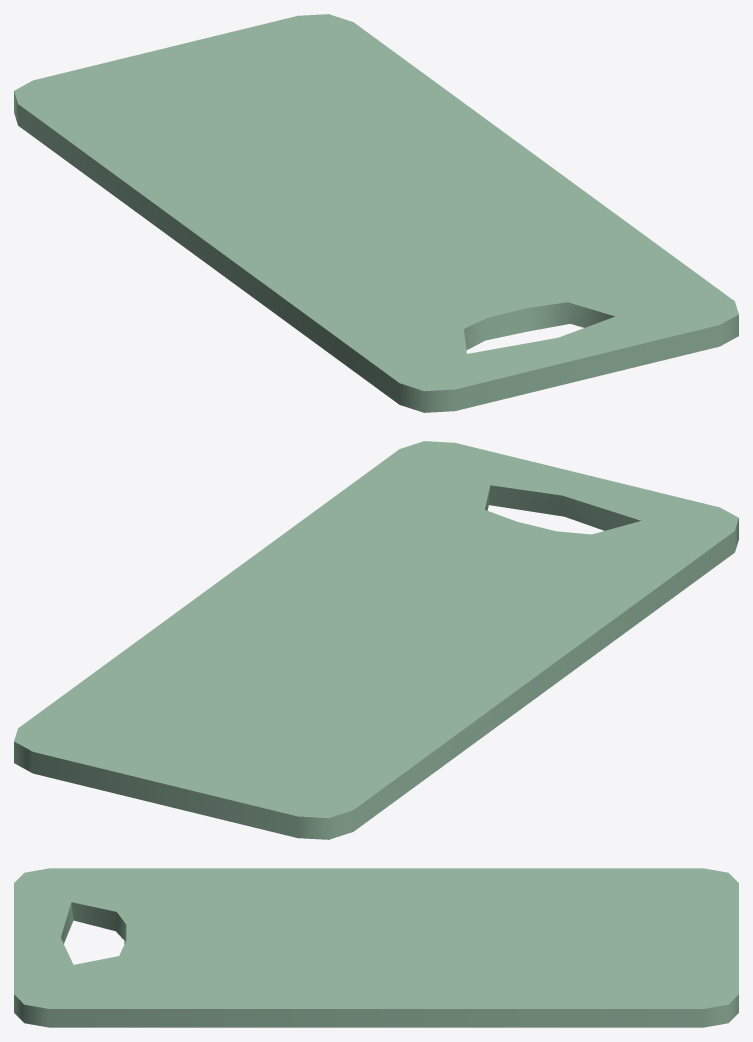
File: board.fbx
3 views of the same model, one above another, from view 1: azimuth 30°, elevation 25°; view 2: azimuth 150°, elevation 25°; view 3: azimuth 270°, elevation 25° (orthographic). The views are drawn at different scales.
Visible parts, largest first — view 1: board; view 2: board; view 3: board.
Boxes of the visible parts, x1,y1,x2,y2 form: board: (14,14,738,412); board: (14,441,738,839); board: (14,868,738,1027).
Bounding box in the file's own units: 4.85 × 10.58 × 0.2998.
